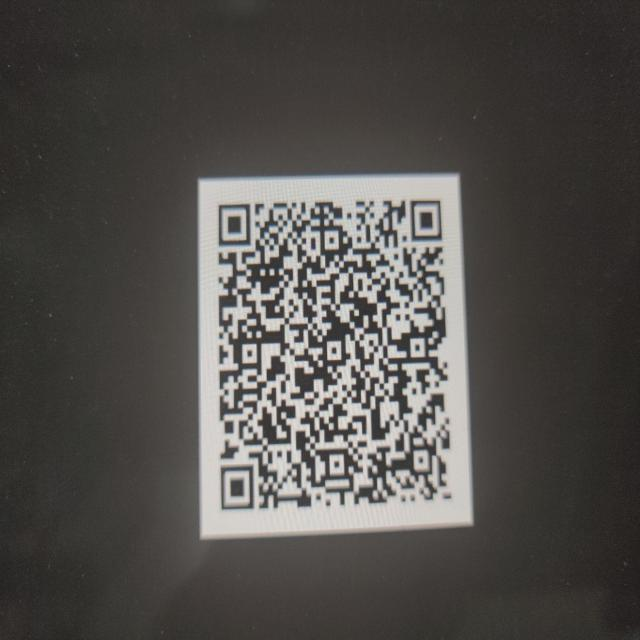qr_code: (219, 200, 452, 510)
